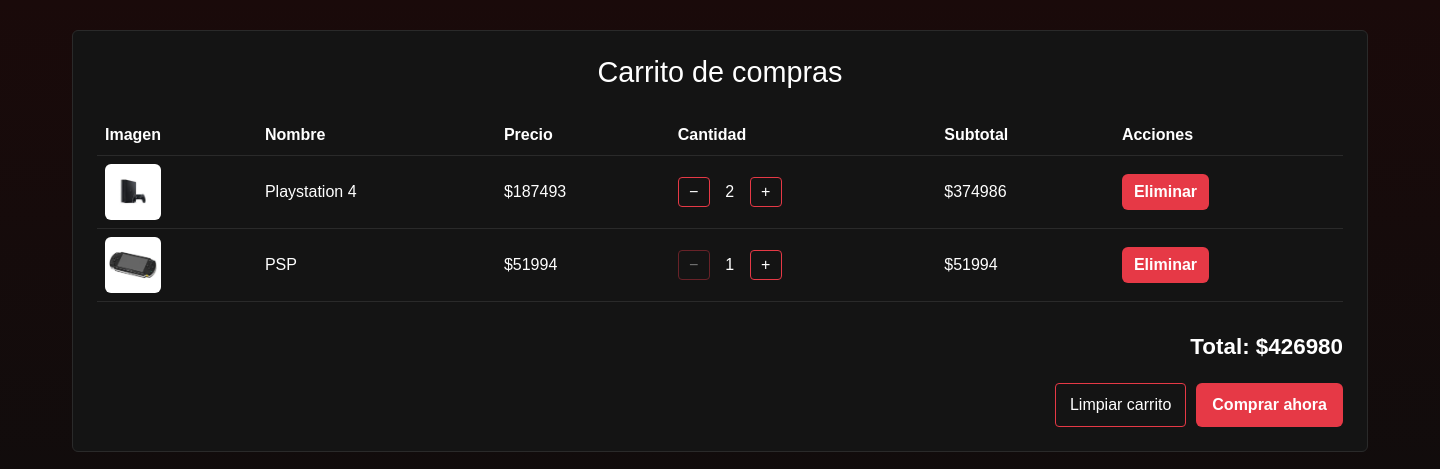
Scenario: Carrito (pagina) › Limpiar carrito lo vacia
Click the button "Limpiar carrito": click(1121, 405) left=1055, top=383, right=1186, bottom=427
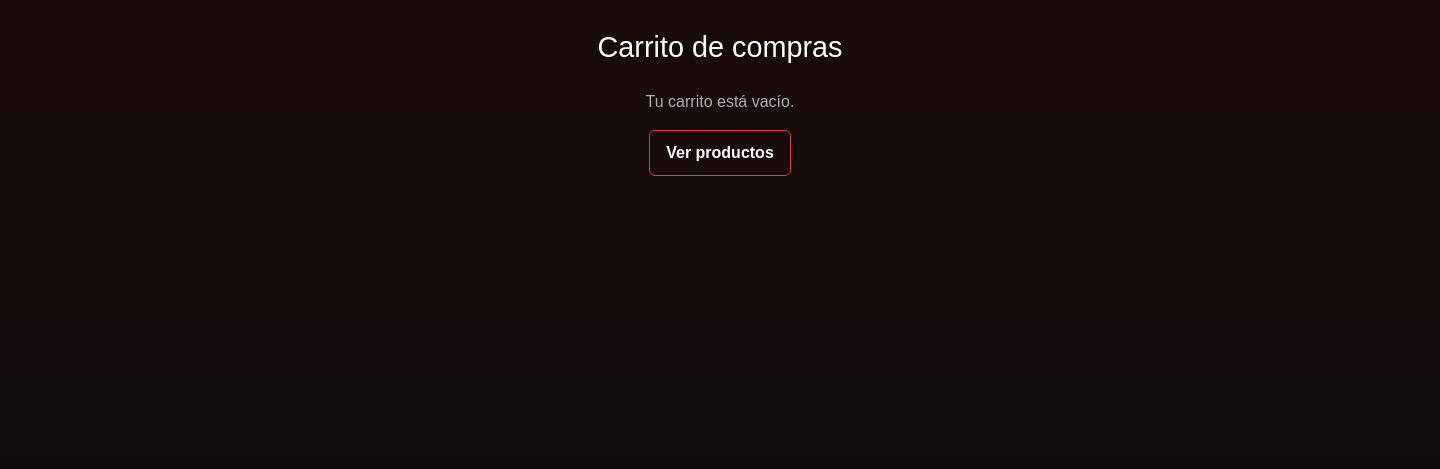
Expected: the text "Tu carrito está vacío." is shown, left=646, top=92, right=794, bottom=110
